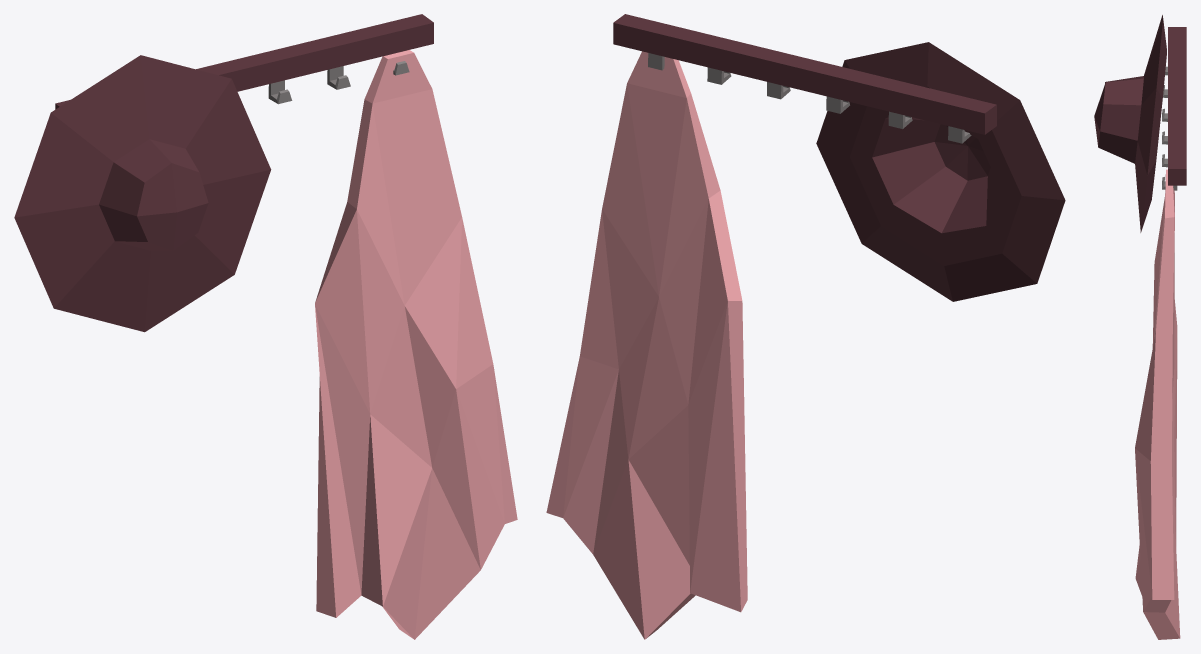
File: hanger-wall-clothes-c.fbx
The picture shows the model from 3 angles, left to right: view 1: azimuth 30°, elevation 25°; view 2: azimuth 150°, elevation 25°; view 3: azimuth 270°, elevation 25°; orthographic projection. The views are drawn at different scales.
Parts seen in each view (by area): view 1: hanger-wall-clothes-c; view 2: hanger-wall-clothes-c; view 3: hanger-wall-clothes-c.
Boxes of the visible parts, <box> form: hanger-wall-clothes-c: <box>14,14,517,639</box>; hanger-wall-clothes-c: <box>546,14,1065,639</box>; hanger-wall-clothes-c: <box>1094,15,1186,639</box>.
Bounding box in the file's own units: 0.9873 × 1.22 × 0.1993.
